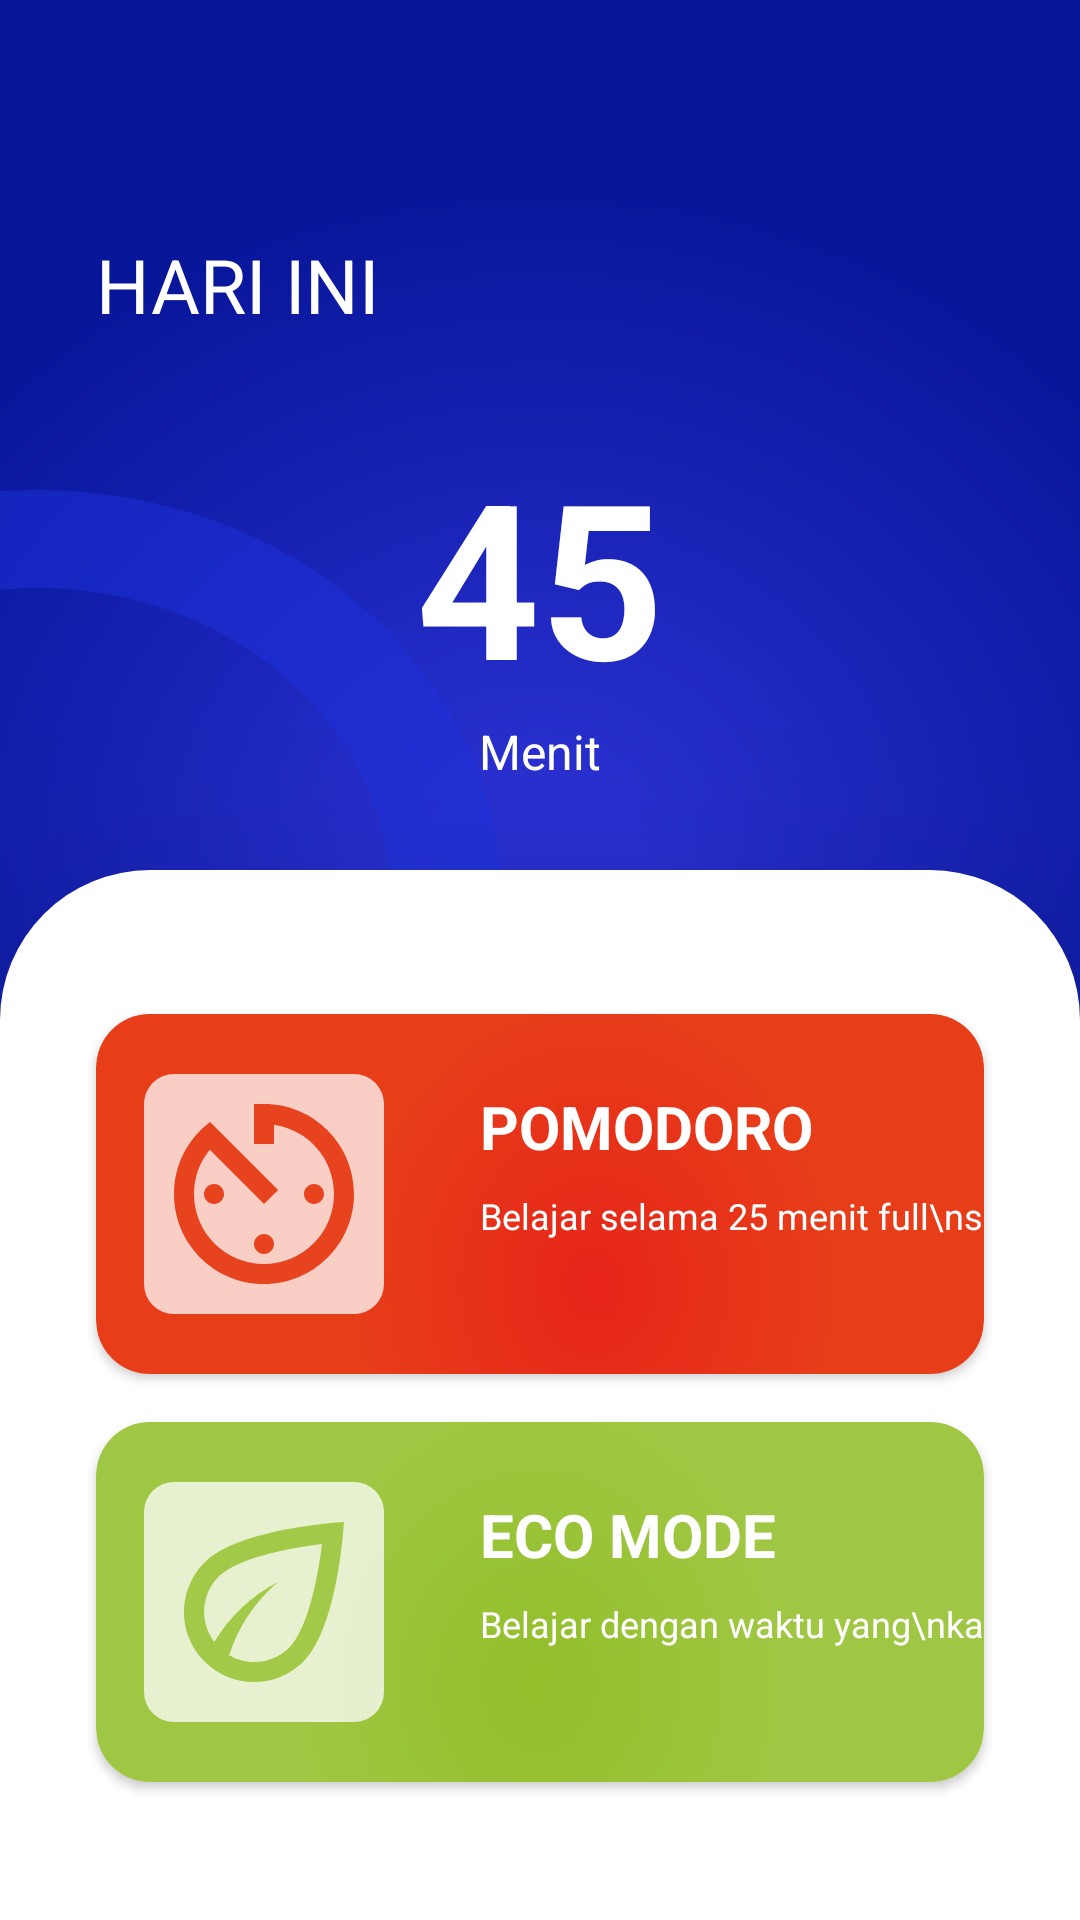

Named icons in this screenshot (1080 x 1920) and their centers, [x,y]:
av timer: [264,1194]
